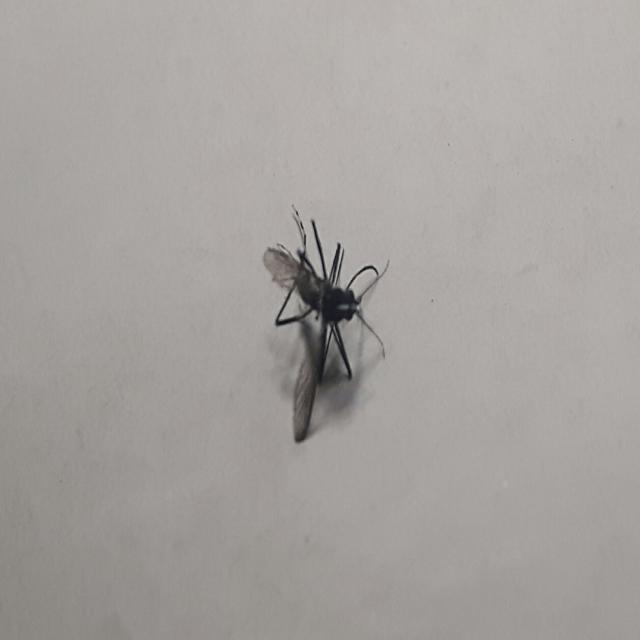albopictus: (261, 173, 393, 448)
